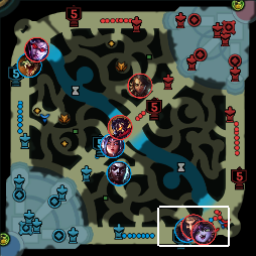draven: (180, 215, 205, 238)
ekko: (106, 161, 130, 185)
ezreal: (173, 219, 195, 242)
irelia: (100, 134, 124, 157)
lulu: (191, 219, 216, 243)
nidalee: (126, 73, 151, 97)
renekton: (17, 53, 41, 77)
vayne: (24, 36, 48, 61)
viktor: (107, 114, 132, 139)
